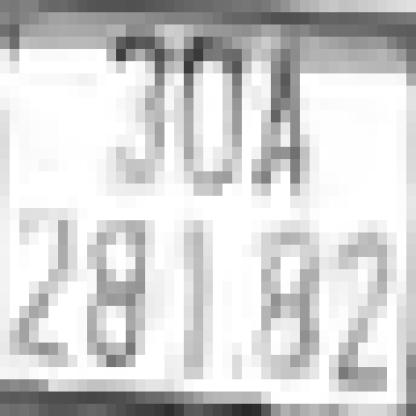2: (319, 220, 387, 380)
8: (87, 208, 155, 355)
A: (242, 37, 300, 196)
